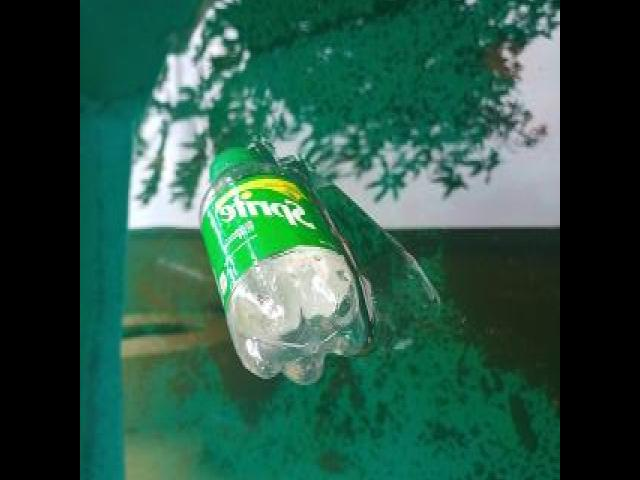Bottle: (196, 121, 374, 396)
